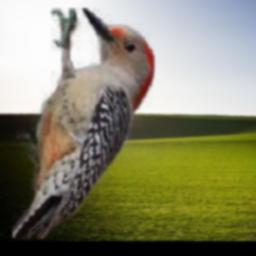Woodpecker: (13, 8, 154, 239)
